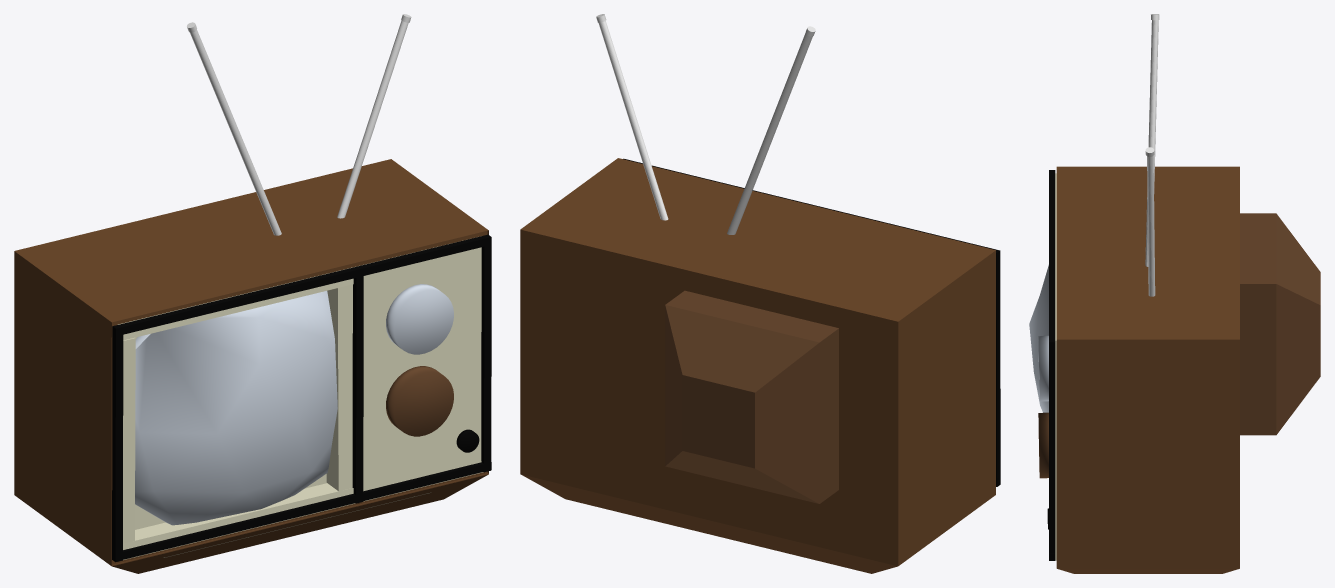
File: TheRetroTV.glb
3 views of the same model, side by side, from view 1: azimuth 30°, elevation 25°; view 2: azimuth 150°, elevation 25°; view 3: azimuth 270°, elevation 25° (orthographic). The views are drawn at different scales.
Parts seen in each view (by area): view 1: Cube.002, Icosphere, Cube.001, Cube.003, Cube.005, Cylinder, Cylinder.006, Cube.007, Cube.006, Cube.004, Cylinder.003, Cylinder.002; view 2: Cube.002, Cube.008, Cylinder.003, Cylinder.002, Cube.006; view 3: Cube.002, Cube.008, Cube.004, Icosphere, Cube.003, Cylinder.003, Cylinder.002, Cube.001, Cylinder, Cylinder.006.
Part boxes in pixels (x1=…): Cube.002: x1=14, y1=159, x2=488, y2=573; Icosphere: x1=135, y1=291, x2=337, y2=525; Cube.001: x1=117, y1=240, x2=483, y2=559; Cube.003: x1=112, y1=234, x2=491, y2=335; Cube.005: x1=116, y1=462, x2=491, y2=561; Cylinder: x1=386, y1=284, x2=453, y2=354; Cylinder.006: x1=386, y1=366, x2=453, y2=436; Cube.007: x1=352, y1=276, x2=363, y2=503; Cube.006: x1=112, y1=334, x2=123, y2=562; Cube.004: x1=481, y1=244, x2=491, y2=472; Cylinder.003: x1=190, y1=30, x2=281, y2=235; Cylinder.002: x1=337, y1=20, x2=408, y2=218; Cube.002: x1=520, y1=158, x2=995, y2=573; Cube.008: x1=665, y1=290, x2=838, y2=503; Cylinder.003: x1=727, y1=33, x2=812, y2=234; Cylinder.002: x1=598, y1=21, x2=668, y2=220; Cube.006: x1=996, y1=258, x2=1000, y2=486; Cube.002: x1=1056, y1=166, x2=1239, y2=573; Cube.008: x1=1240, y1=213, x2=1320, y2=435; Cube.004: x1=1049, y1=349, x2=1055, y2=560; Icosphere: x1=1029, y1=265, x2=1048, y2=412; Cube.003: x1=1049, y1=170, x2=1055, y2=349; Cylinder.003: x1=1145, y1=20, x2=1158, y2=266; Cylinder.002: x1=1147, y1=156, x2=1155, y2=296; Cube.001: x1=1055, y1=173, x2=1056, y2=560; Cylinder: x1=1038, y1=335, x2=1048, y2=401; Cylinder.006: x1=1038, y1=412, x2=1048, y2=478.
Bounding box in the file's own units: 7.68 × 9.62 × 5.47.
